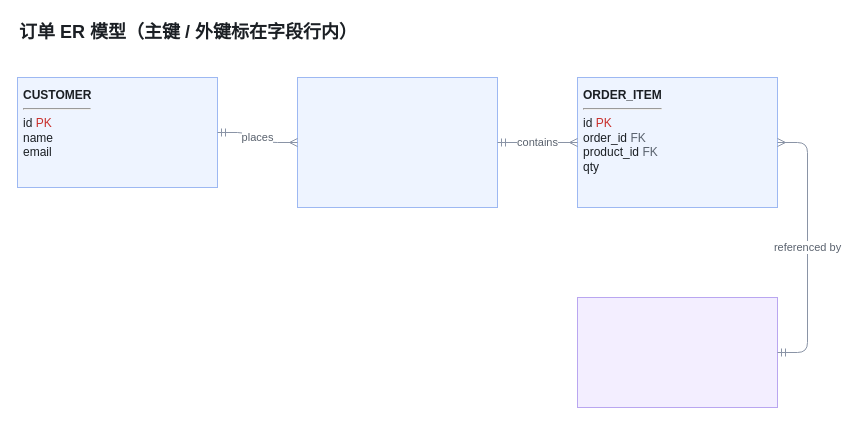
The diagram is 858 pixels wide and 425 high, and some of its shapes have lost their labels. Each missing label, with the box of its shape:
ORDER id PK customer_id FK status total_amount: (296, 76, 498, 208)
PRODUCT id PK name price: (576, 296, 778, 408)
